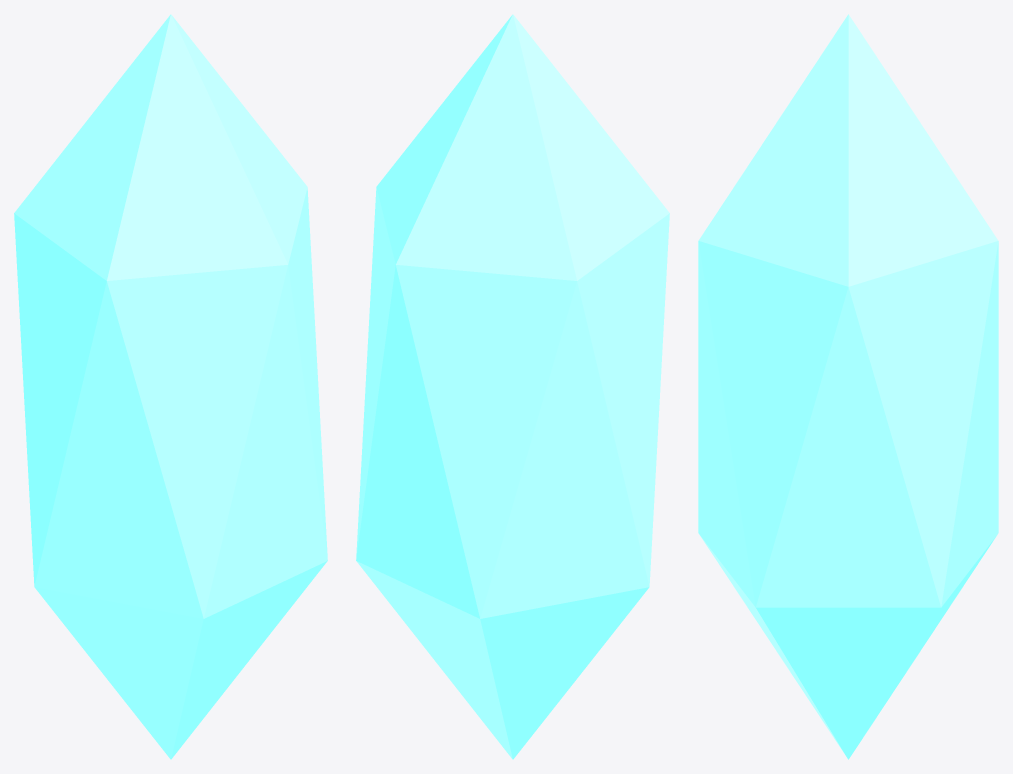
The model's file is crystal.glb.
The picture shows the model from 3 angles, left to right: view 1: azimuth 30°, elevation 25°; view 2: azimuth 150°, elevation 25°; view 3: azimuth 270°, elevation 25°; orthographic projection.
Parts seen in each view (by area): view 1: Crystal; view 2: Crystal; view 3: Crystal.
Boxes of the visible parts, x1=… form: Crystal: x1=14, y1=14, x2=327, y2=759; Crystal: x1=356, y1=14, x2=669, y2=759; Crystal: x1=698, y1=14, x2=998, y2=759.
Size of the model in its own units: 1.07 by 2.8 by 1.02.
